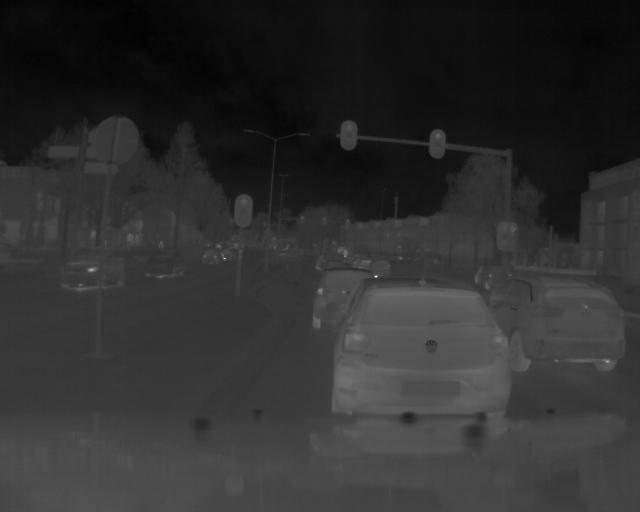car: (330, 275, 514, 414), (482, 274, 629, 371), (311, 265, 361, 334), (64, 245, 129, 290)
